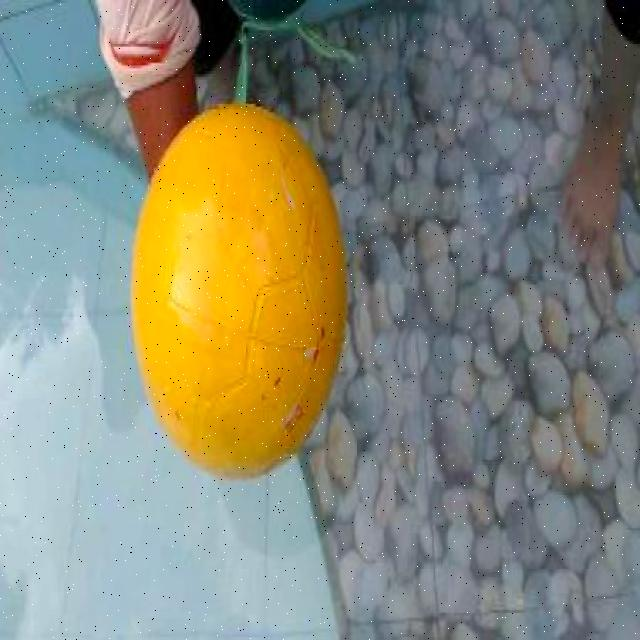buoy: (130, 102, 346, 478)
